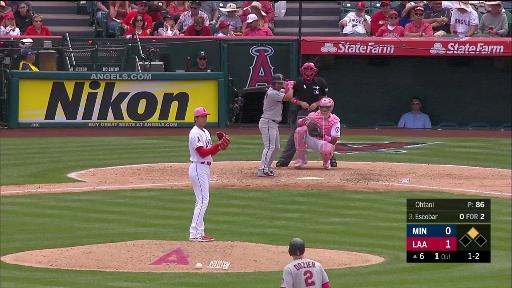pitcher: (189, 106, 231, 242)
